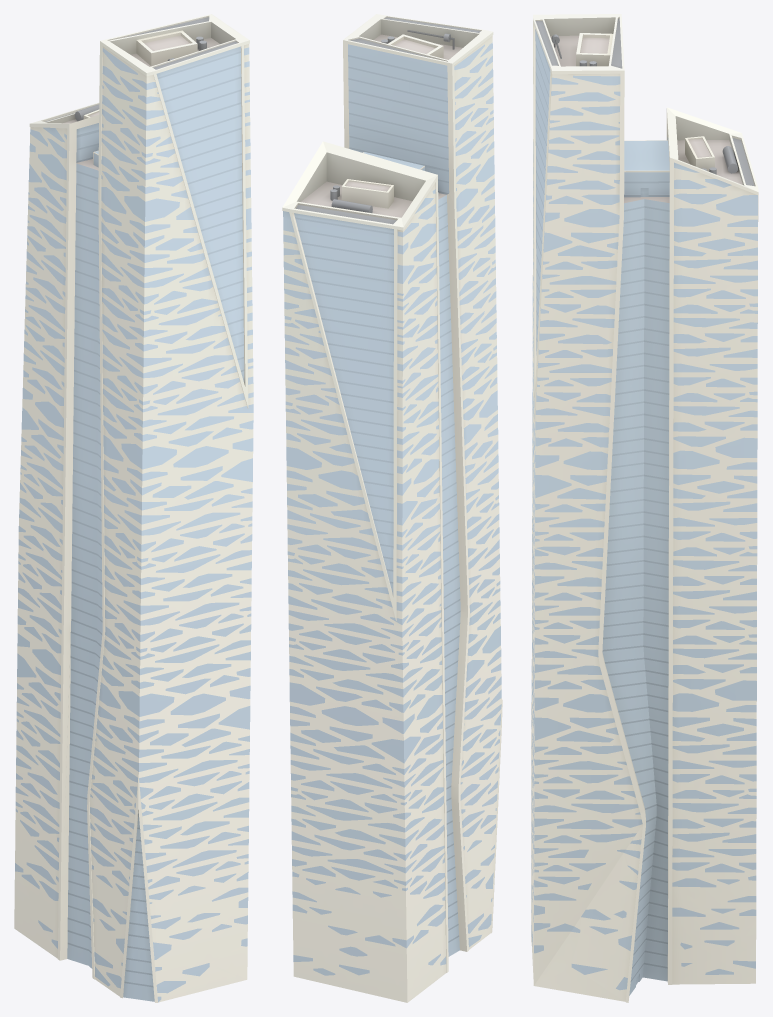
3 renders of one model, left to right at view 1: azimuth 30°, elevation 25°; view 2: azimuth 150°, elevation 25°; view 3: azimuth 270°, elevation 25°, orthographic. The views are drawn at different scales.
Visible parts, largest first — view 1: 70030076201848675; view 2: 70030076201848675; view 3: 70030076201848675.
Boxes of the visible parts, left/top/right/bottom form: 70030076201848675: left=14, top=14, right=253, bottom=1002; 70030076201848675: left=282, top=14, right=502, bottom=1002; 70030076201848675: left=531, top=14, right=758, bottom=1002.
Bounding box in the file's own units: 51.89 × 293 × 65.57.
1 material, 1 textured.
